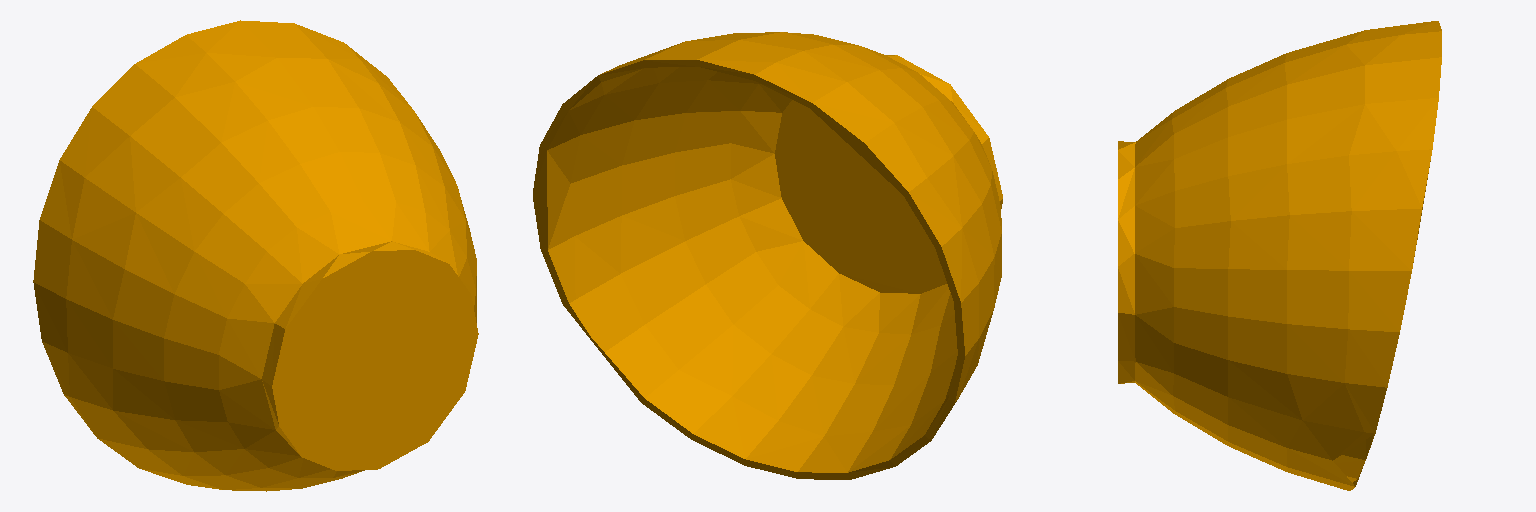
URDF robot description (indenter):
<robot name="indenter">
	<!-- <link name="world">
        </link>

        <joint name="world_to_indenter" type="prismatic">
                <parent link="world"/>
                <child link="indenter"/>
                <origin rpy="0.0 0.0 0.0" xyz="0.0 0.0 0.0"/>
                <axis xyz="0 1 0"/>
                <dynamics damping="0.0" friction="0.0"/>
                <limit lower="0.0" upper="0.4" velocity="1e9" effort="1e9"/>
        </joint> -->

	<link name="indenter">
		<visual>
			<origin rpy="0.0 0.0 0.0" xyz="0.0 0.0 0.0"/>
			<geometry>
				<mesh filename="../../meshes/target_objects/bowl1_shapenet.obj"/>
			</geometry>
		</visual>
		<collision>
			<origin rpy="0.0 0.0 0.0" xyz="0.0 0.0 0.0"/>
			<geometry>
				<mesh filename="../../meshes/target_objects/bowl1_shapenet.obj"/>
			</geometry>
		</collision>
		<inertial>
			<origin rpy="0.0 0.0 0.0" xyz="0.0 -8.64389e-3 0.0"/>
			<mass value="0.00224114"/>
			<inertia ixx="6.25553e-8" iyy="4.07645e-8" izz="6.25353e-8" ixy="0.0" ixz="4.69820e-15" iyz="0.0"/>
		</inertial>
	</link>
</robot>

--- Render facts (derived) ---
The picture shows the robot from 3 angles, left to right: view 1: azimuth 30°, elevation 25°; view 2: azimuth 150°, elevation 25°; view 3: azimuth 270°, elevation 25°; orthographic projection.
Robot: indenter — 1 links, 0 joints (none); root link indenter; default pose: all joints at 0.
Visible links, largest first — view 1: indenter; view 2: indenter; view 3: indenter.
Boxes of the visible links, x1=… form: indenter: x1=33, y1=20, x2=478, y2=491; indenter: x1=533, y1=32, x2=1002, y2=479; indenter: x1=1118, y1=21, x2=1441, y2=490.
Size in the robot's own frame: 0.4476 by 0.3075 by 0.4425 metres.
1 mesh visuals loaded from 1 distinct referenced files (1 OBJ).